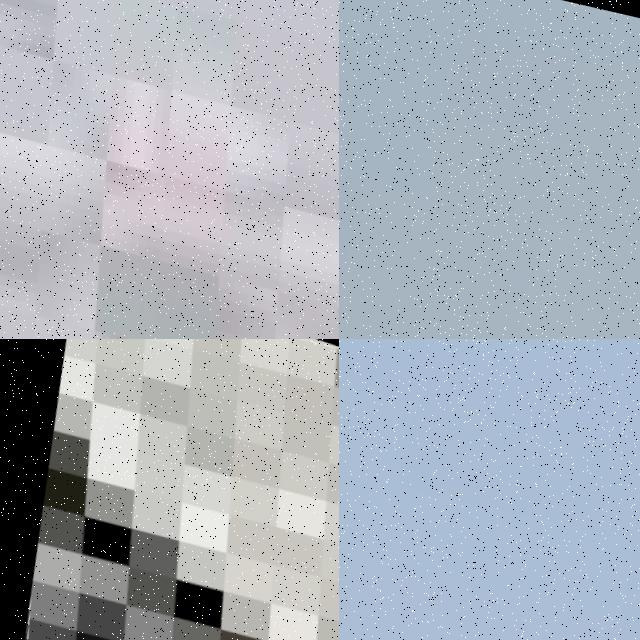drone: (0, 0, 339, 339), (0, 339, 339, 640)
